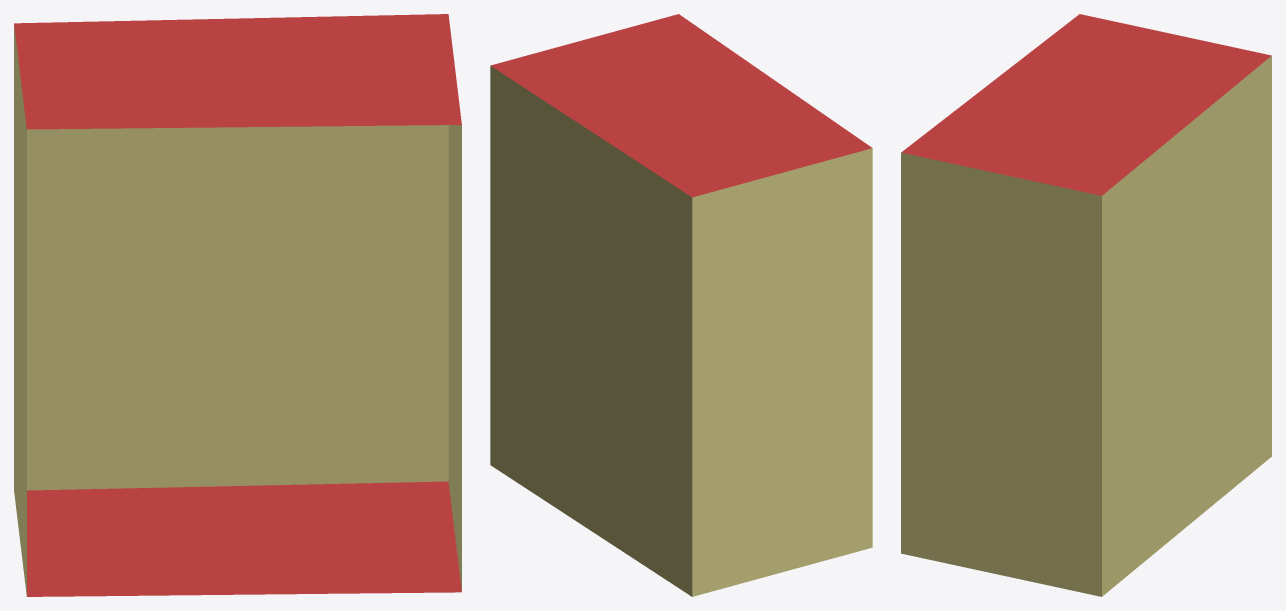
The picture shows the model from 3 angles, left to right: view 1: azimuth 30°, elevation 25°; view 2: azimuth 150°, elevation 25°; view 3: azimuth 270°, elevation 25°; orthographic projection. The views are drawn at different scales.
Parts seen in each view (by area): view 1: group_4, group_3, group_5; view 2: group_4, group_3; view 3: group_4, group_3.
Boxes of the visible parts, box(x1,y1,x2,y2) form: group_4: box(14, 24, 461, 596); group_3: box(14, 14, 461, 129); group_5: box(27, 481, 461, 596); group_4: box(490, 66, 872, 596); group_3: box(490, 14, 872, 197); group_4: box(901, 56, 1271, 596); group_3: box(901, 14, 1271, 195).
Size of the model in its own units: 7.5 by 6.46 by 7.71.
